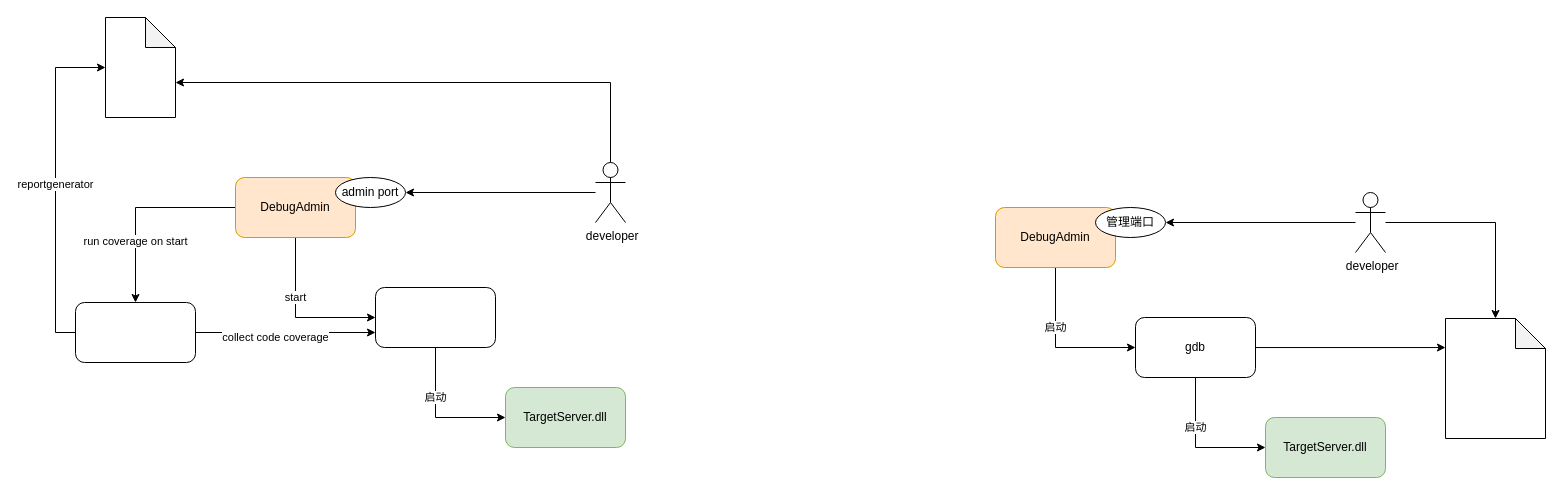
The diagram is 1563 pixels wide and 495 high, and some of its shapes have lost their labels. The centre of each missing label's shape, as x and y in pixels:
"* 堆栈信息 * 崩溃日志" goes at pixel 1495 378.
"code coverage report html" goes at pixel 140 67.
"dotnet-coverage collect" goes at pixel 435 317.
"dotnet-coverage snapshot" goes at pixel 135 332.
